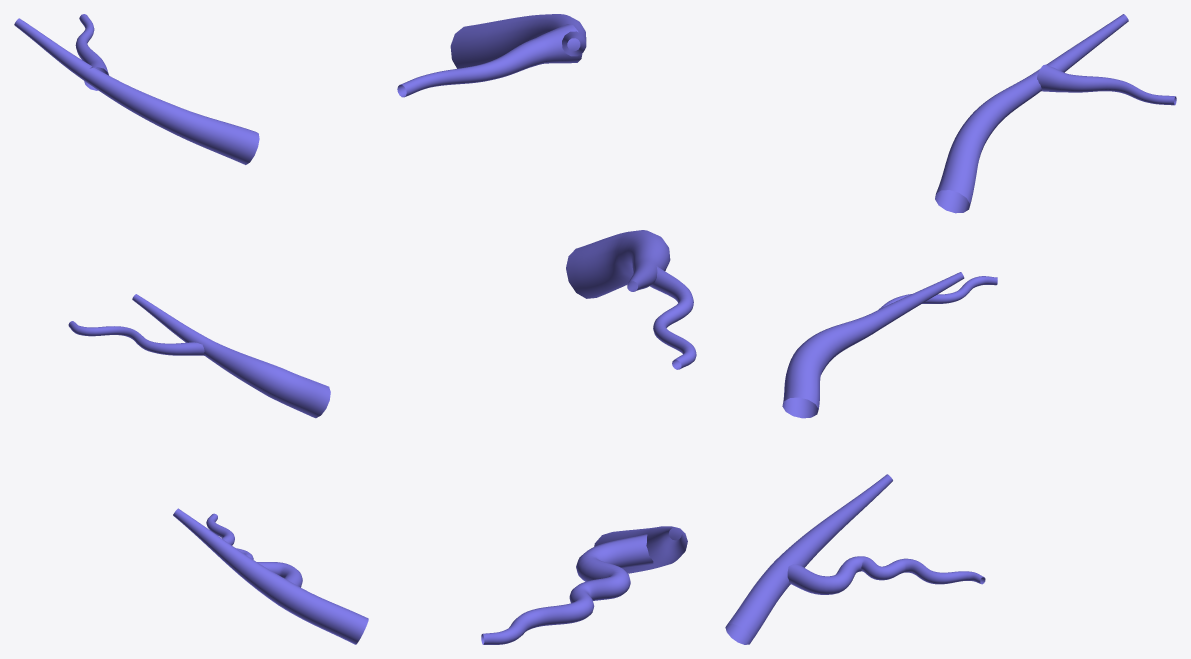
The model's file is Septal_branches_001.glb.
3 renders of one model, left to right at view 1: azimuth 30°, elevation 25°; view 2: azimuth 150°, elevation 25°; view 3: azimuth 270°, elevation 25°, orthographic. The views are drawn at different scales.
Parts seen in each view (by area): view 1: Septal_branches?_BezierCurve.280; view 2: Septal_branches?_BezierCurve.280; view 3: Septal_branches?_BezierCurve.280.
Boxes of the visible parts, x1=… form: Septal_branches?_BezierCurve.280: x1=14, y1=14, x2=368, y2=644; Septal_branches?_BezierCurve.280: x1=397, y1=14, x2=696, y2=644; Septal_branches?_BezierCurve.280: x1=725, y1=14, x2=1176, y2=644.
Size of the model in its own units: 0.014 by 0.0394 by 0.0292.
